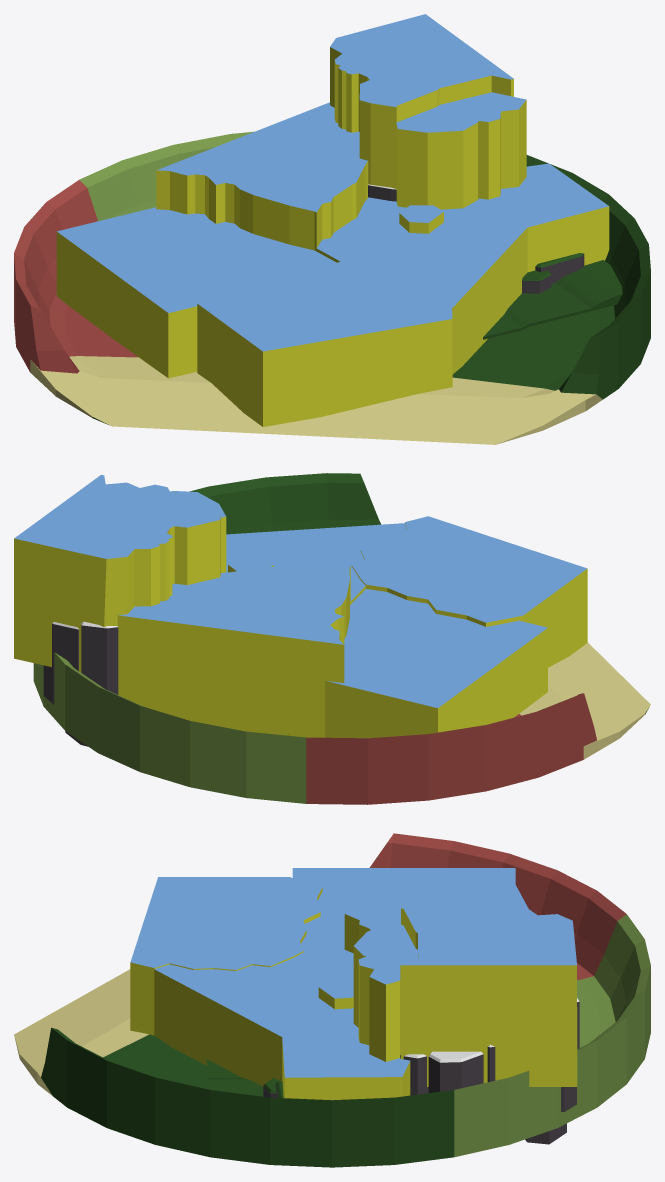
File: terrainNov5_2.glb
3 views of the same model, one above another, from view 1: azimuth 30°, elevation 25°; view 2: azimuth 150°, elevation 25°; view 3: azimuth 270°, elevation 25° (orthographic).
Parts seen in each view (by area): view 1: horizon hills, MarshBiomeWalls, WoodlandBiomeWalls, FallBiomeWalls, BluffBiomeWalls, SnowBiomeWalls, CherryBiome3, Cube.059, CherryBiomeWall2, WaterfallCliff.039, WaterfallCliff.038; view 2: horizon hills, BluffBiomeWalls, FallBiomeWalls, SnowBiomeWalls, MarshBiomeWalls, WoodlandBiomeWalls, WaterfallCliff.030, WaterfallCliff.029, CherryBiome3, CherryBiomeWall2; view 3: horizon hills, SnowBiomeWalls, WoodlandBiomeWalls, MarshBiomeWalls, FallBiomeWalls, CherryBiome3, BluffBiomeWalls, WaterfallCliff.011, Cube.059, CherryBiomeWall2, WaterfallCliff.032.
Part boxes in pixels (box(x1,y1,x2,y2)): horizon hills: box(14, 131, 650, 444); MarshBiomeWalls: box(197, 261, 452, 426); WoodlandBiomeWalls: box(316, 163, 609, 373); FallBiomeWalls: box(56, 207, 336, 378); BluffBiomeWalls: box(156, 102, 368, 251); SnowBiomeWalls: box(330, 14, 513, 188); CherryBiome3: box(396, 92, 526, 209); Cube.059: box(483, 260, 622, 339); CherryBiomeWall2: box(399, 205, 443, 233); WaterfallCliff.039: box(535, 253, 584, 283); WaterfallCliff.038: box(522, 270, 551, 293); horizon hills: box(33, 473, 650, 804); BluffBiomeWalls: box(117, 566, 350, 737); FallBiomeWalls: box(325, 589, 547, 738); SnowBiomeWalls: box(14, 475, 220, 672); MarshBiomeWalls: box(351, 516, 587, 667); WoodlandBiomeWalls: box(226, 523, 406, 604); WaterfallCliff.030: box(81, 621, 118, 694); WaterfallCliff.029: box(43, 622, 78, 703); CherryBiome3: box(106, 482, 226, 572); CherryBiomeWall2: box(228, 557, 273, 572); horizon hills: box(14, 833, 650, 1167); SnowBiomeWalls: box(400, 898, 577, 1086); WoodlandBiomeWalls: box(154, 949, 410, 1100); MarshBiomeWalls: box(130, 877, 322, 1035); FallBiomeWalls: box(292, 868, 515, 951); CherryBiome3: box(353, 922, 417, 1061); BluffBiomeWalls: box(344, 877, 528, 953); WaterfallCliff.011: box(428, 1051, 483, 1092); Cube.059: box(206, 1059, 263, 1096); CherryBiomeWall2: box(318, 980, 353, 1009); WaterfallCliff.032: box(400, 1054, 428, 1095).
Size of what is drawn, in the model's own units: 408 by 140 by 408.
